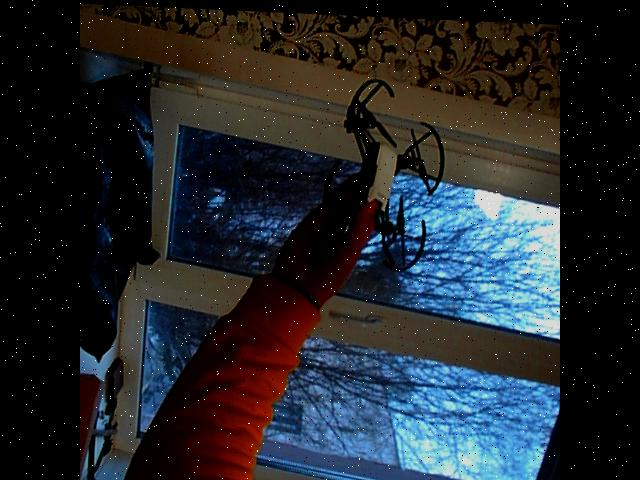drone: (311, 61, 447, 266)
